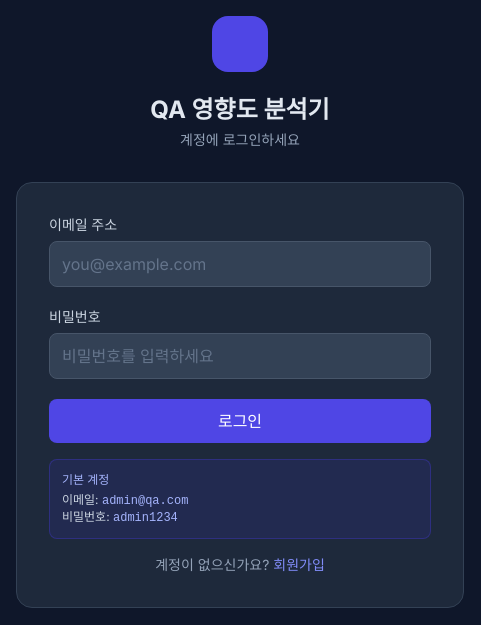
it: C10 — LoginPage › loading state — login-btn is disabled while request is pending
Type "admin@qa.com" into the field with test id "email-input".
click(240, 264); type("admin@qa.com")  # box [49,241,431,287]
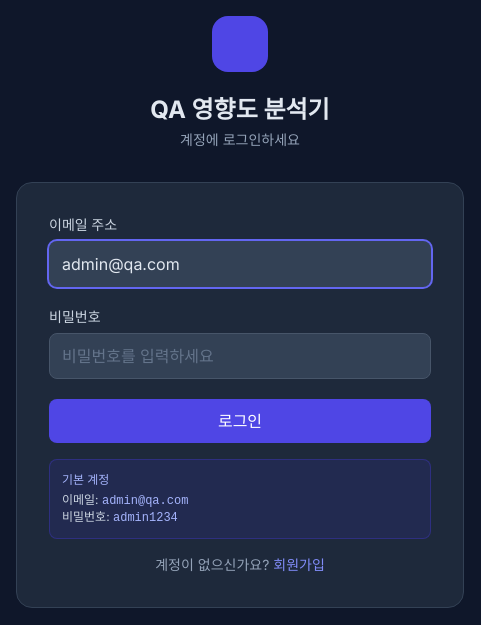
Type "admin1234" into the password field with test id "password-input".
click(240, 356); type("admin1234")  # box [49,333,431,379]
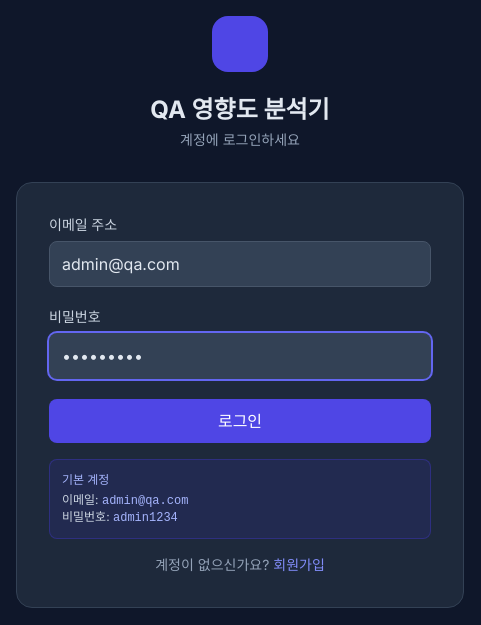
Click the button with test id "login-btn".
click(240, 421)  # box [49,399,431,443]
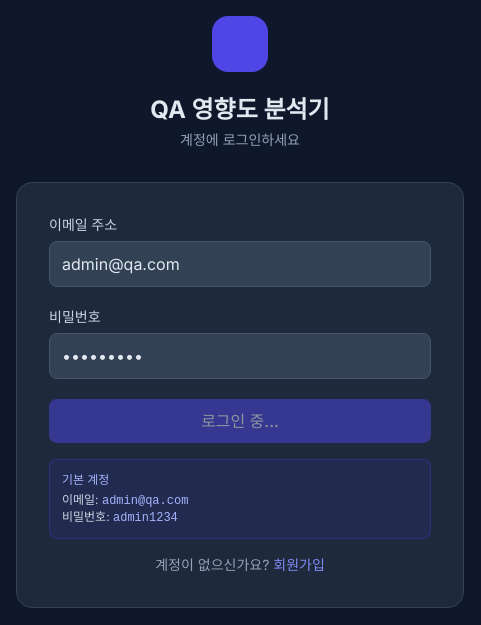
Now the button with test id "login-btn" is disabled, box [49,399,431,443]
